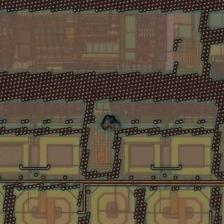PARTICLE: (100, 114, 123, 136)
